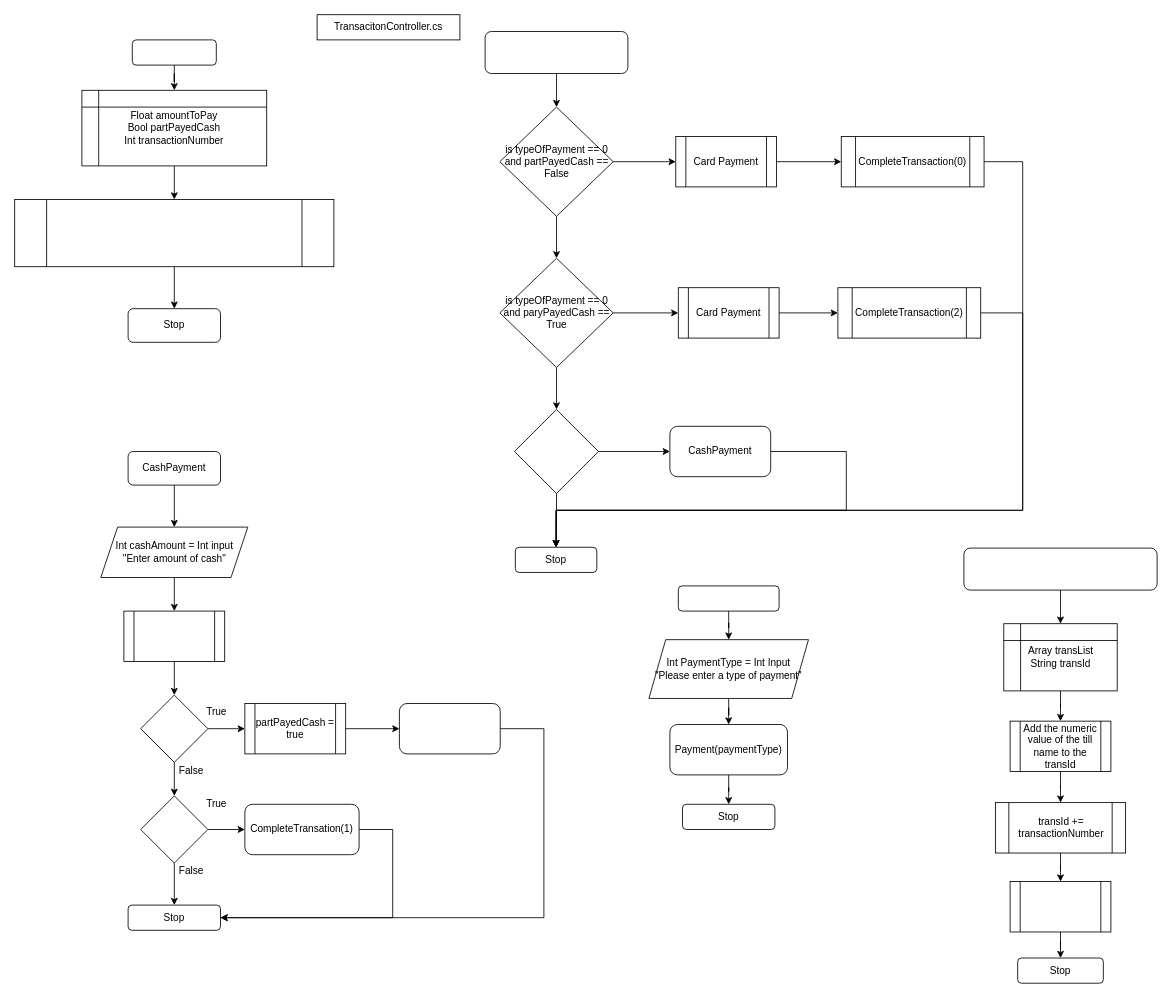
The diagram is 1172 pixels wide and 998 high, and some of its shapes have lost their labels. The centre of each missing label's shape, as x and y in pixels:
amoutToPay -= cashAmount: point (174, 636)
CompleteTransaction(itransactionType): point (1060, 568)
is amountToPay <= 0: point (174, 829)
Is amountToPay > 0: point (174, 728)
is typeOfPayment == 1: point (556, 451)
Payment(typeOfPayment): point (556, 52)
RequestPayment: point (728, 598)
RequestPayment(): point (449, 728)
Send Request to server to add values to the transTable: point (1060, 906)
Start: point (173, 52)
transactionNumber = ClientDataSave.currentData.numberOfTranactions: point (174, 233)
